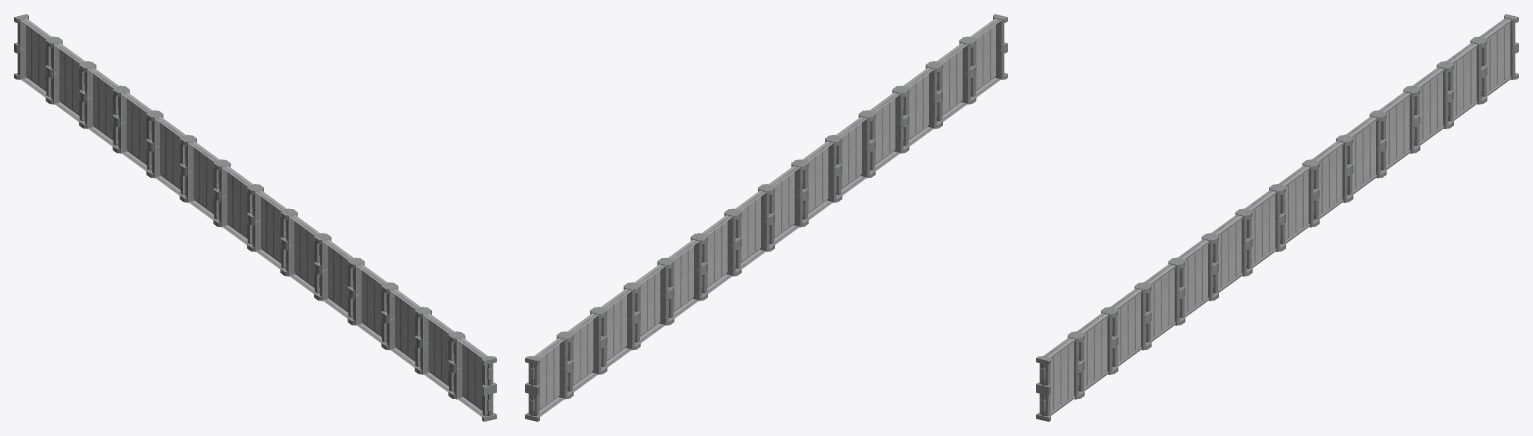
The model's file is Pfb_JALB_WallPart2_Line__8.fbx.
The picture shows the model from 3 angles, left to right: view 1: azimuth 30°, elevation 25°; view 2: azimuth 150°, elevation 25°; view 3: azimuth 330°, elevation 25°; orthographic projection.
Visible parts, largest first — view 1: MAT_Roof; view 2: MAT_Roof; view 3: MAT_Roof.
Part boxes in pixels (x1,y1,x2,y2): MAT_Roof: (14, 14, 496, 421); MAT_Roof: (525, 14, 1007, 421); MAT_Roof: (1036, 14, 1518, 421).
Bounding box in the file's own units: 0.8874 × 4 × 56.
Materials: 1 (1 with a texture image).
